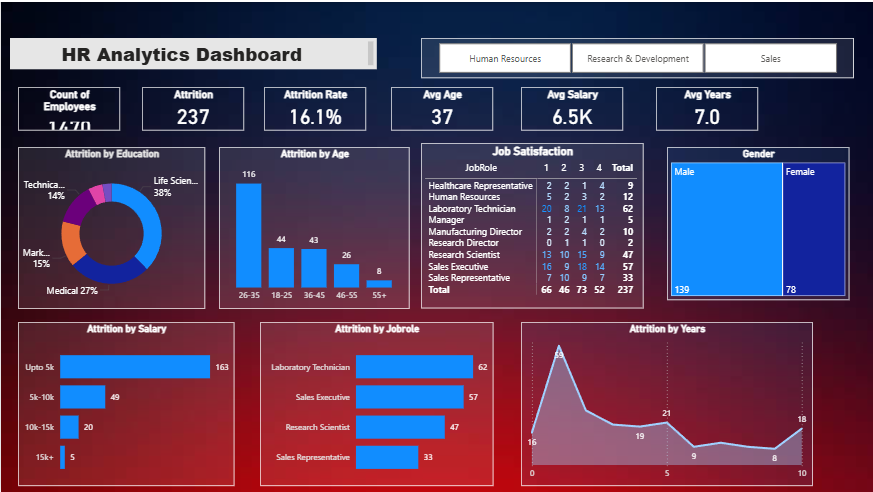

This screenshot's page, from the dashboard's own definition file:
{"tool":"powerbi","page":{"name":"Page 1","canvas":[1280,720],"ordinal":0},"visuals":[{"type":"card","title":"Count of Employees","fields":{"Values":["CountNonNull(HR_Analytics.EmpID)"]},"box":[25,125,150,64.3],"z":0},{"type":"card","title":"Attrition","fields":{"Values":["Sum(HR_Analytics.AttritionCount)"]},"box":[207.1,125,150,64.3],"z":1000},{"type":"card","title":"Attrition Rate","fields":{"Values":["HR_Analytics.AttritionRate"]},"box":[385.7,125,150,64.3],"z":2000},{"type":"card","title":"Avg Age","fields":{"Values":["Avg(HR_Analytics.Age)"]},"box":[573.2,125,150,64.3],"z":3000},{"type":"card","title":"Avg Salary","fields":{"Values":["Avg(HR_Analytics.MonthlyIncome)"]},"box":[764.3,125,150,64.3],"z":4000},{"type":"card","title":"Avg Years","fields":{"Values":["Avg(HR_Analytics.YearsAtCompany)"]},"box":[962.5,125,150,64.3],"z":5000},{"type":"donutChart","title":"Attrition by Education","fields":{"Category":["HR_Analytics.EducationField"],"Y":["Sum(HR_Analytics.AttritionCount)"]},"box":[25,212.5,275,237.5],"z":6000},{"type":"columnChart","title":"Attrition by Age","fields":{"Category":["HR_Analytics.AgeGroup"],"Y":["Sum(HR_Analytics.AttritionCount)"]},"box":[319.6,212.5,280.4,237.5],"z":7000},{"type":"pivotTable","title":"Job Satisfaction","fields":{"Rows":["HR_Analytics.JobRole"],"Columns":["HR_Analytics.JobSatisfaction"],"Values":["Sum(HR_Analytics.AttritionCount)"]},"box":[617.9,207.1,326.8,242.9],"z":8000},{"type":"barChart","title":"Attrition by Salary","fields":{"Category":["HR_Analytics.SalarySlab"],"Y":["Sum(HR_Analytics.AttritionCount)"]},"box":[25,469.6,317.9,241.1],"z":9000},{"type":"barChart","title":"Attrition by Jobrole","fields":{"Category":["HR_Analytics.JobRole"],"Y":["Sum(HR_Analytics.AttritionCount)"]},"box":[380.4,469.6,342.9,241.1],"z":10000},{"type":"areaChart","title":"Attrition by Years","fields":{"Category":["HR_Analytics.YearsAtCompany"],"Y":["Sum(HR_Analytics.AttritionCount)"]},"box":[764.3,469.6,428.6,241.1],"z":11000},{"type":"treemap","title":"Gender","fields":{"Values":["Sum(HR_Analytics.AttritionCount)"],"Group":["HR_Analytics.Gender"]},"box":[978.6,212.5,267.9,225],"z":12000},{"type":"slicer","title":"Department","fields":{"Values":["HR_Analytics.Department"]},"box":[617.9,53.6,635.7,58.9],"z":13000},{"type":"textbox","box":[12.5,53.6,539.3,46.4],"z":14000}]}

Visuals, with their boxes in screenshot pixels (x1, y1, x2, y2), scaled from the page's 1280x720 canvas onto the 873x492 screenshot:
"Count of Employees" card: pyautogui.locateOnScreen(17, 85, 119, 129)
"Attrition" card: pyautogui.locateOnScreen(141, 85, 244, 129)
"Attrition Rate" card: pyautogui.locateOnScreen(263, 85, 365, 129)
"Avg Age" card: pyautogui.locateOnScreen(391, 85, 493, 129)
"Avg Salary" card: pyautogui.locateOnScreen(521, 85, 624, 129)
"Avg Years" card: pyautogui.locateOnScreen(656, 85, 759, 129)
"Attrition by Education" donutChart: pyautogui.locateOnScreen(17, 145, 205, 308)
"Attrition by Age" columnChart: pyautogui.locateOnScreen(218, 145, 409, 308)
"Job Satisfaction" pivotTable: pyautogui.locateOnScreen(421, 142, 644, 308)
"Attrition by Salary" barChart: pyautogui.locateOnScreen(17, 321, 234, 486)
"Attrition by Jobrole" barChart: pyautogui.locateOnScreen(259, 321, 493, 486)
"Attrition by Years" areaChart: pyautogui.locateOnScreen(521, 321, 814, 486)
"Gender" treemap: pyautogui.locateOnScreen(667, 145, 850, 299)
"Department" slicer: pyautogui.locateOnScreen(421, 37, 855, 77)
textbox: pyautogui.locateOnScreen(9, 37, 376, 68)
